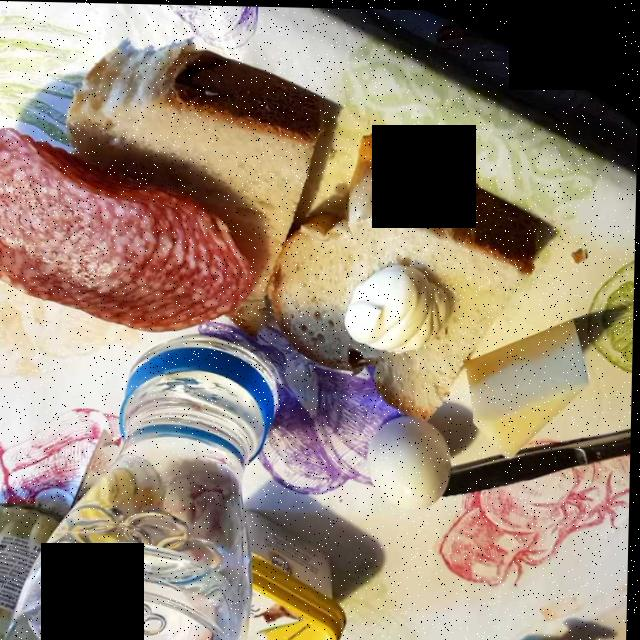braided-white-loaf: (63, 62, 542, 418)
egg: (365, 411, 453, 512)
hard-cheese: (456, 317, 589, 463)
mayonnaise: (341, 263, 446, 349)
salami: (0, 136, 257, 332)
water: (21, 357, 270, 605)
